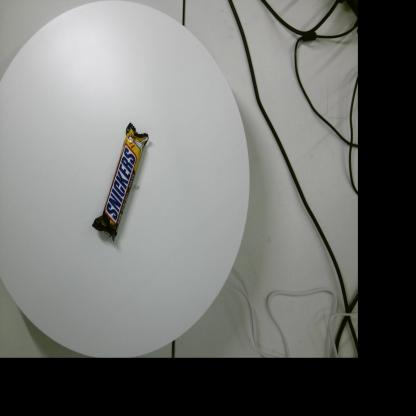Chocolate: (91, 122, 148, 242)
